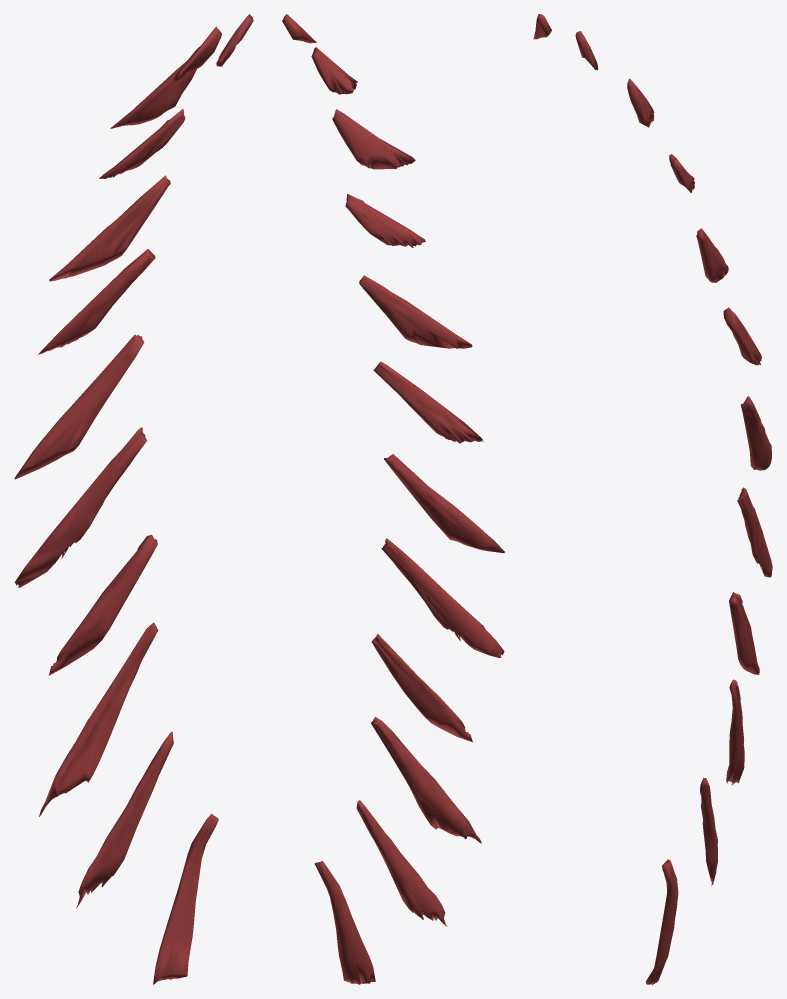
The model's file is levatores-breves-costarum-r.glb.
The picture shows the model from 3 angles, left to right: view 1: azimuth 30°, elevation 25°; view 2: azimuth 210°, elevation 25°; view 3: azimuth 270°, elevation 25°; orthographic projection. The views are drawn at different scales.
Parts seen in each view (by area): view 1: Levatores breves costarum.r; view 2: Levatores breves costarum.r; view 3: Levatores breves costarum.r.
Part boxes in pixels (x1,y1,x2,y2): Levatores breves costarum.r: (14,14,253,984); Levatores breves costarum.r: (282,14,504,984); Levatores breves costarum.r: (533,14,772,984).
Bounding box in the file's own units: 0.0507 × 0.3231 × 0.0717.
